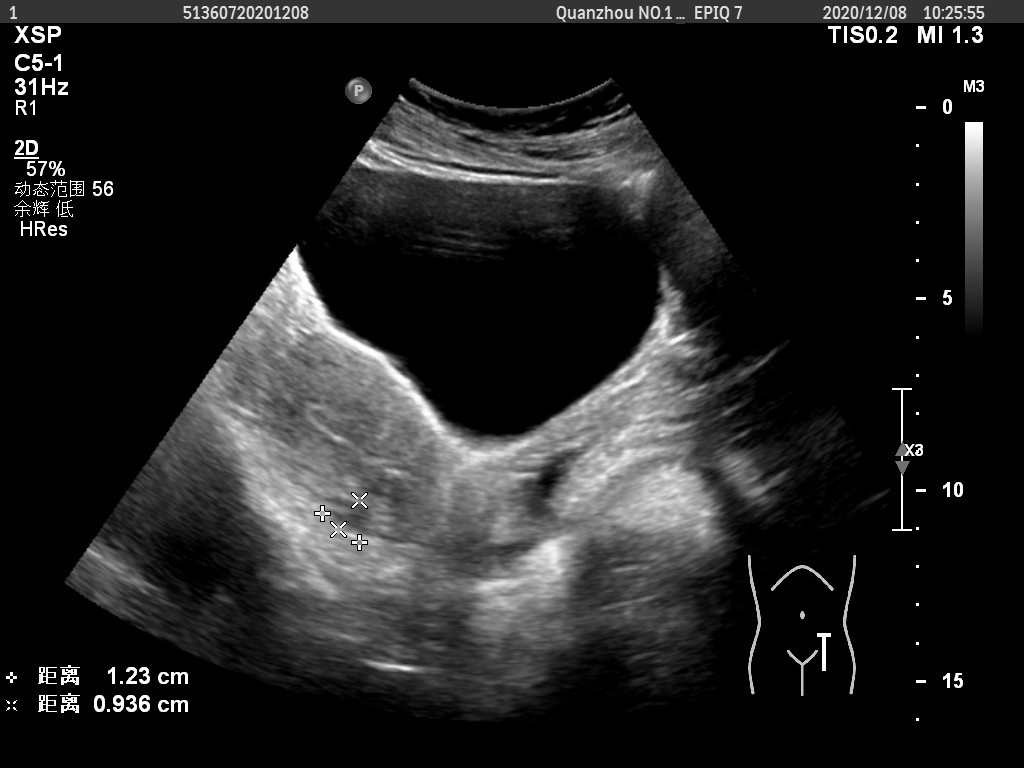肌瘤: (331, 506, 370, 535)
